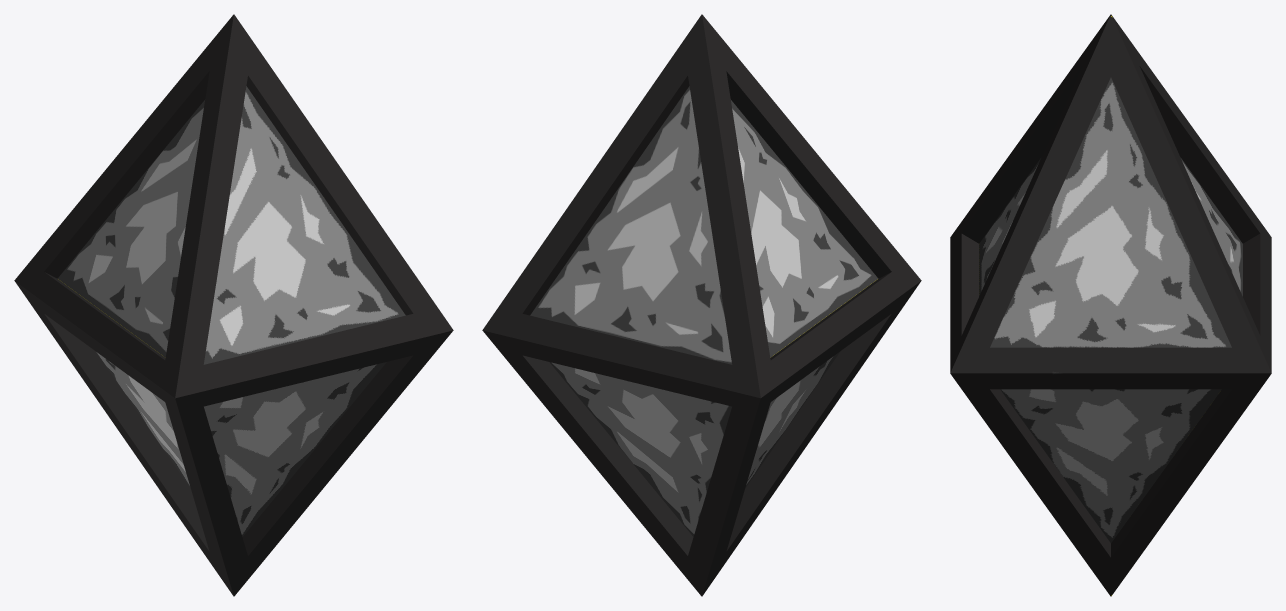
Rendered from TK_EnemyModel.fbx.
The picture shows the model from 3 angles, left to right: view 1: azimuth 30°, elevation 25°; view 2: azimuth 150°, elevation 25°; view 3: azimuth 270°, elevation 25°; orthographic projection.
Parts seen in each view (by area): view 1: Cube; view 2: Cube; view 3: Cube.
Boxes of the visible parts, <box> form: Cube: <box>14,14,453,596</box>; Cube: <box>482,14,921,596</box>; Cube: <box>950,14,1271,596</box>.
Bounding box in the file's own units: 400 × 800 × 400.
